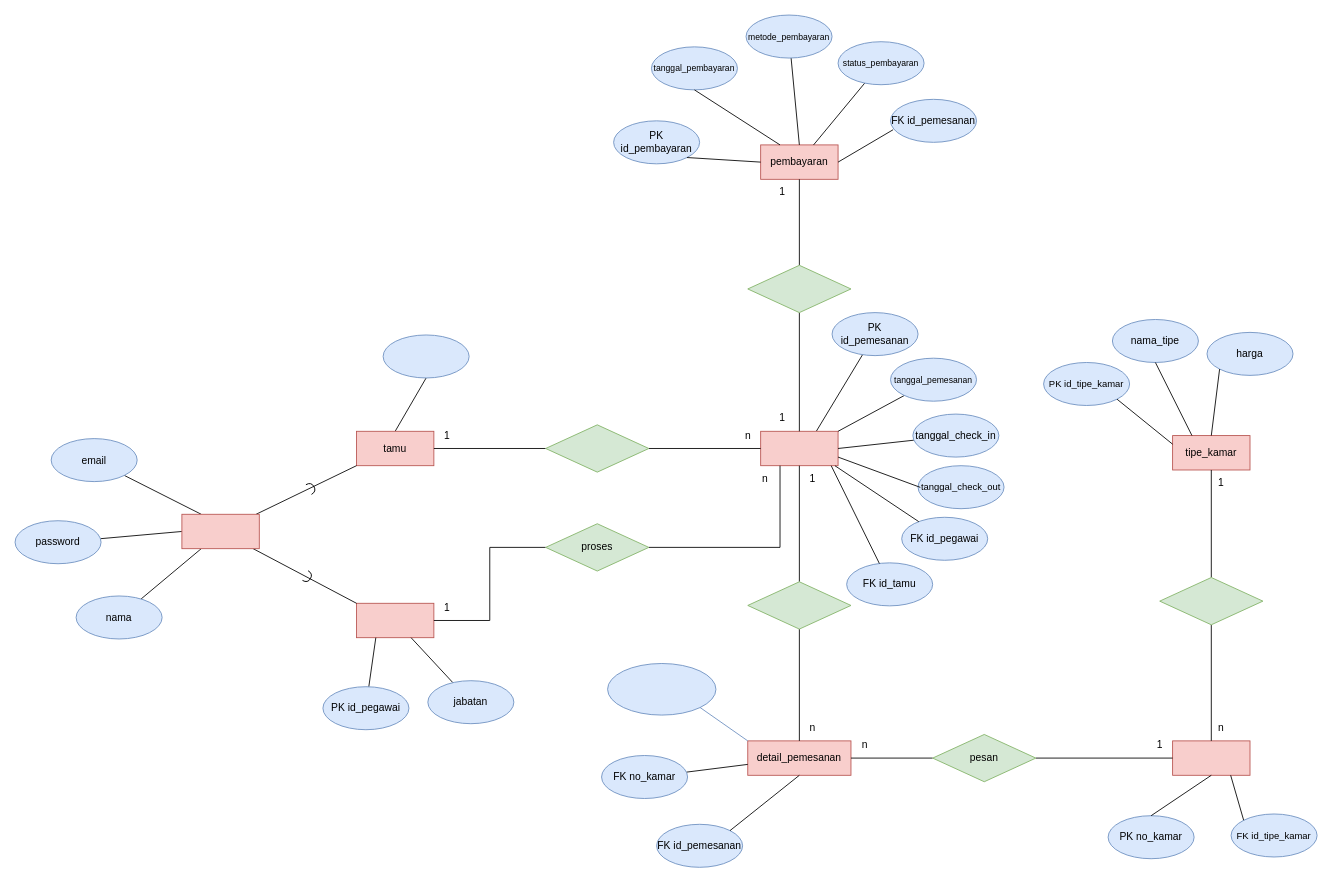
This 1332x882 diagram has some shape labels left out. The shapes that lost their labels are listed below. From the top down, each one's box as (x1, y1, x2, y2) in pixels, then its label:
(747, 264, 851, 313): hasil
(382, 334, 469, 378): PK id_tamu
(545, 424, 649, 472): buat
(760, 430, 838, 466): pemesanan
(181, 513, 259, 549): pengguna
(356, 602, 434, 638): pegawai
(747, 581, 851, 629): milik
(1159, 577, 1263, 625): punya
(607, 663, 716, 715): PK id_detail_pemesanan
(1172, 740, 1250, 775): kamar
